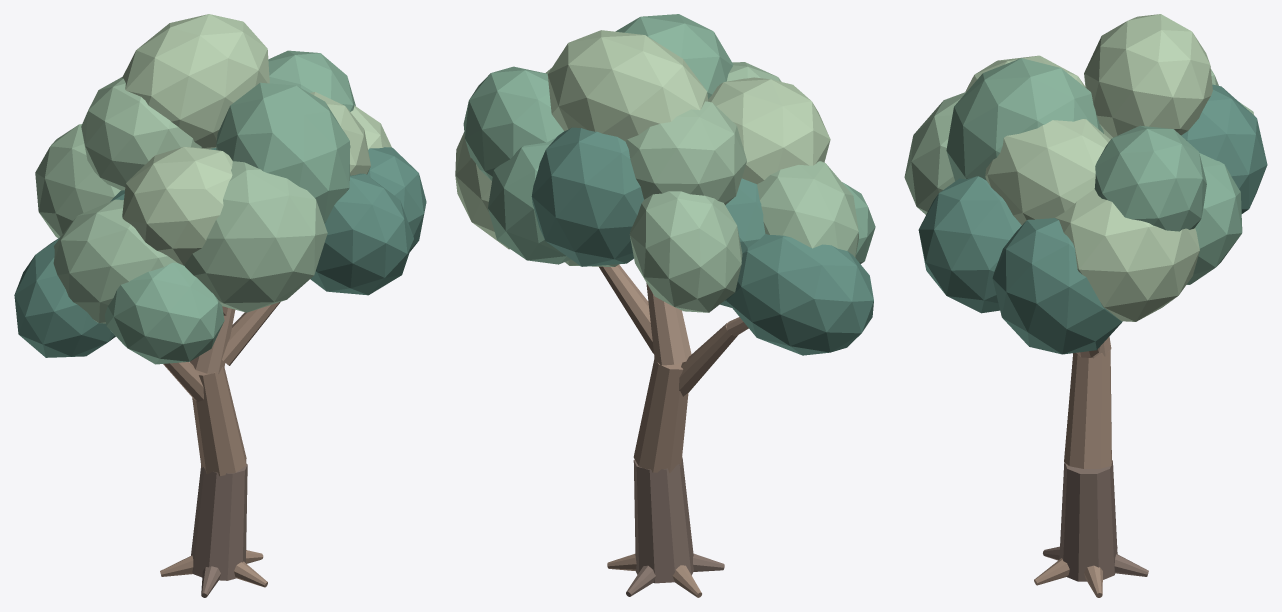
The model's file is small_tree.glb.
3 views of the same model, side by side, from view 1: azimuth 30°, elevation 25°; view 2: azimuth 150°, elevation 25°; view 3: azimuth 270°, elevation 25° (orthographic). The views are drawn at different scales.
Parts seen in each view (by area): view 1: LF_SmallTreeLeafLight_Mesh, LF_SmallTreeLeafSun_Mesh, LF_SmallTreeLeaf_Mesh, LF_SmallTreeLeafDeep_Mesh, LF_SmallTreeBark_Mesh, LF_SmallTreeBarkDeep_Mesh, LF_SmallTreeBarkLight_Mesh; view 2: LF_SmallTreeLeafDeep_Mesh, LF_SmallTreeLeafLight_Mesh, LF_SmallTreeLeafSun_Mesh, LF_SmallTreeLeaf_Mesh, LF_SmallTreeBark_Mesh, LF_SmallTreeBarkDeep_Mesh, LF_SmallTreeBarkLight_Mesh; view 3: LF_SmallTreeLeafSun_Mesh, LF_SmallTreeLeafDeep_Mesh, LF_SmallTreeLeaf_Mesh, LF_SmallTreeBarkDeep_Mesh, LF_SmallTreeBark_Mesh, LF_SmallTreeLeafLight_Mesh.
Part boxes in pixels (x1=…): LF_SmallTreeLeafLight_Mesh: x1=35, y1=77, x2=327, y2=323; LF_SmallTreeLeafSun_Mesh: x1=122, y1=14, x2=391, y2=265; LF_SmallTreeLeaf_Mesh: x1=104, y1=50, x2=355, y2=364; LF_SmallTreeLeafDeep_Mesh: x1=14, y1=147, x2=426, y2=357; LF_SmallTreeBark_Mesh: x1=160, y1=302, x2=280, y2=587; LF_SmallTreeBarkDeep_Mesh: x1=191, y1=463, x2=247, y2=597; LF_SmallTreeBarkLight_Mesh: x1=190, y1=308, x2=235, y2=374; LF_SmallTreeLeafDeep_Mesh: x1=531, y1=127, x2=873, y2=355; LF_SmallTreeLeafLight_Mesh: x1=565, y1=62, x2=858, y2=312; LF_SmallTreeLeafSun_Mesh: x1=455, y1=30, x2=830, y2=249; LF_SmallTreeLeaf_Mesh: x1=463, y1=14, x2=875, y2=264; LF_SmallTreeBark_Mesh: x1=599, y1=264, x2=737, y2=597; LF_SmallTreeBarkDeep_Mesh: x1=626, y1=457, x2=724, y2=596; LF_SmallTreeBarkLight_Mesh: x1=646, y1=283, x2=748, y2=365; LF_SmallTreeLeafSun_Mesh: x1=965, y1=14, x2=1212, y2=321; LF_SmallTreeLeafDeep_Mesh: x1=918, y1=84, x2=1267, y2=354; LF_SmallTreeLeaf_Mesh: x1=946, y1=58, x2=1242, y2=284; LF_SmallTreeBarkDeep_Mesh: x1=1043, y1=460, x2=1148, y2=581; LF_SmallTreeBark_Mesh: x1=1034, y1=347, x2=1117, y2=597; LF_SmallTreeLeafLight_Mesh: x1=904, y1=69, x2=1254, y2=214.
Size of what is drawn, in the model's own units: 1.38 by 1.84 by 1.09.
